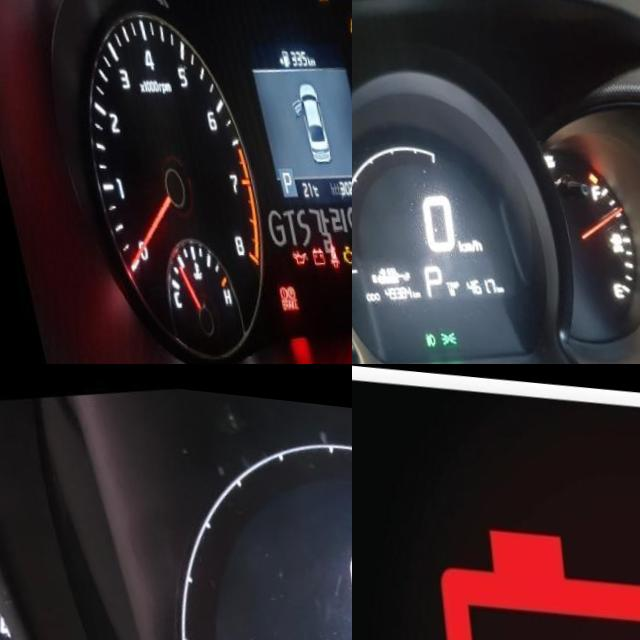FrontFogLight: (415, 322, 429, 340)
LaneCenteringOff: (342, 5, 352, 24)
SideLamp: (429, 320, 450, 338)
